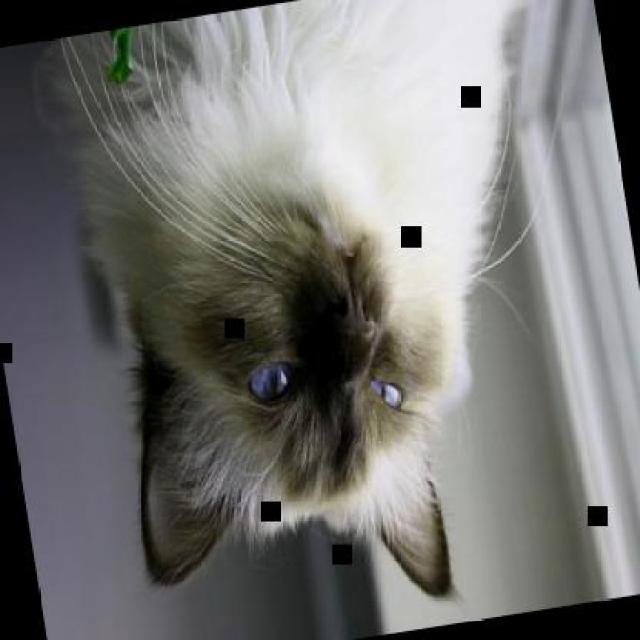cat: (60, 0, 603, 638)
